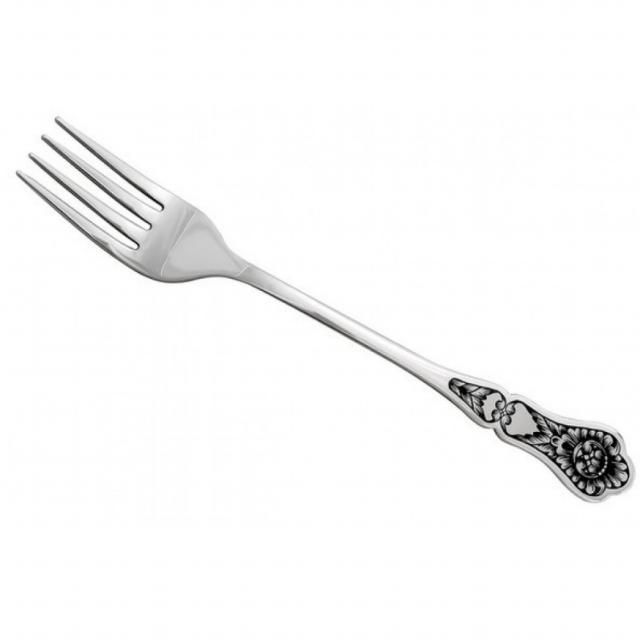fork: (14, 110, 636, 500)
